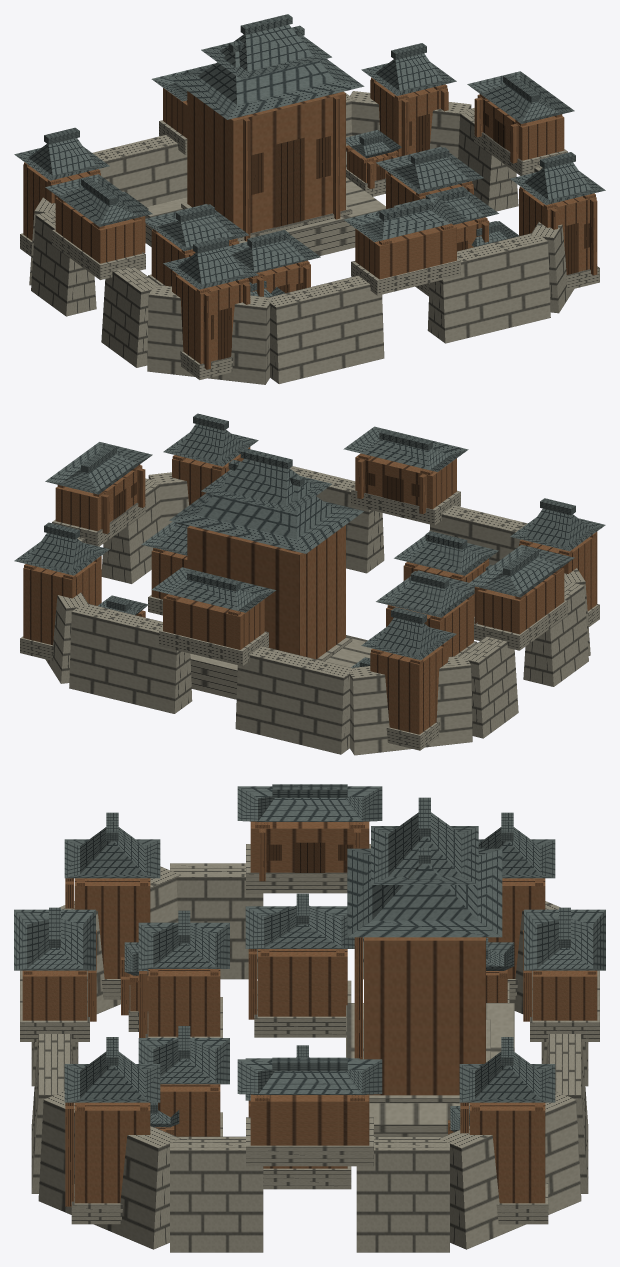
File: city2-lod1.glb
3 views of the same model, one above another, from view 1: azimuth 30°, elevation 25°; view 2: azimuth 150°, elevation 25°; view 3: azimuth 270°, elevation 25° (orthographic). The views are drawn at different scales.
Bounding box in the file's own units: 2.03 × 0.901 × 1.65.
1 material, 1 textured.
